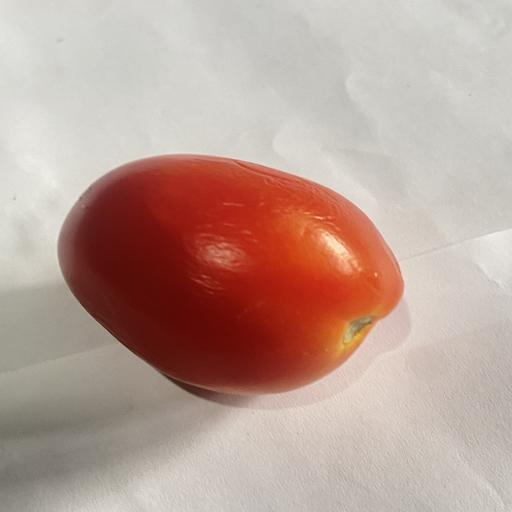spoiled: (58, 155, 403, 394)
